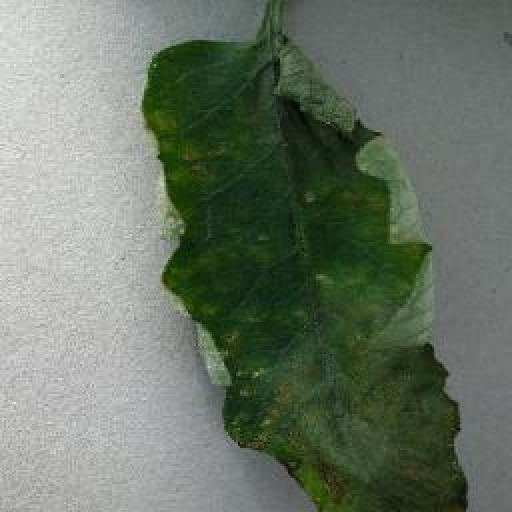Late Blight: (138, 34, 470, 512)
